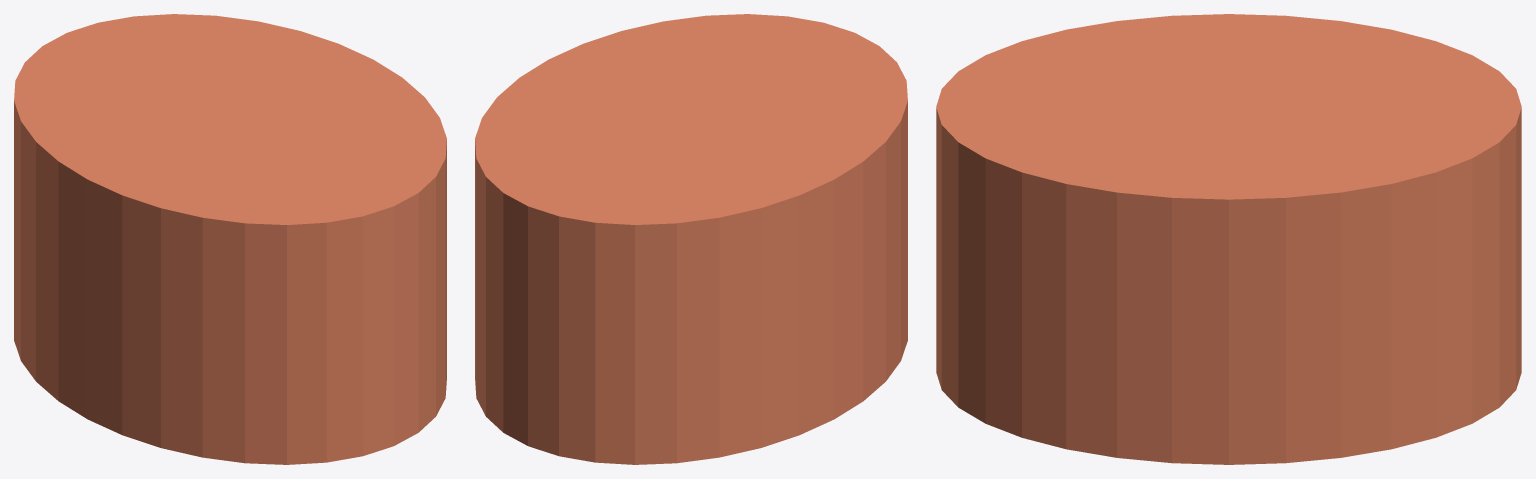
File: insulin_pump_2.glb
3 renders of one model, left to right at view 1: azimuth 30°, elevation 25°; view 2: azimuth 150°, elevation 25°; view 3: azimuth 270°, elevation 25°, orthographic. The views are drawn at different scales.
Parts seen in each view (by area): view 1: Cylinder; view 2: Cylinder; view 3: Cylinder.
Boxes of the visible parts, bbox=[...] form: Cylinder: bbox=[14, 14, 446, 464]; Cylinder: bbox=[475, 14, 907, 464]; Cylinder: bbox=[936, 14, 1521, 464].
Bounding box in the file's own units: 0.03 × 0.02 × 0.04.
